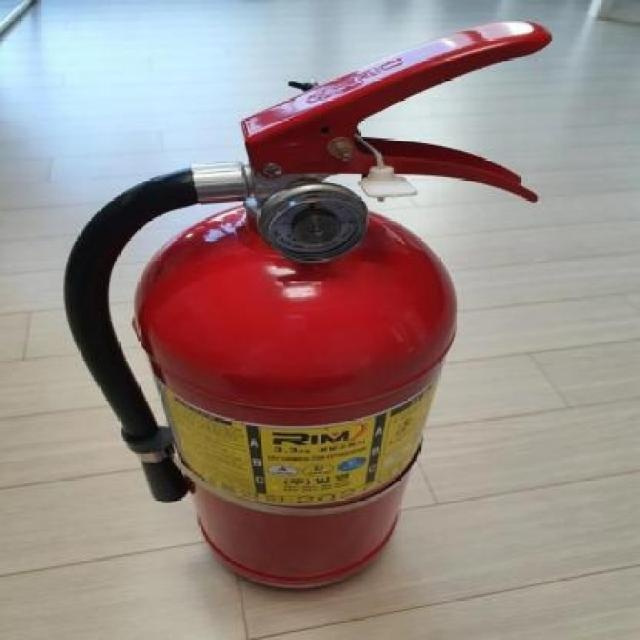fire extinguisher: (64, 21, 556, 590)
